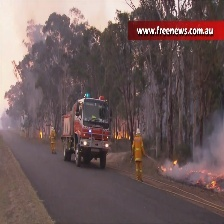fire: (161, 155, 224, 193), (113, 130, 130, 140)
